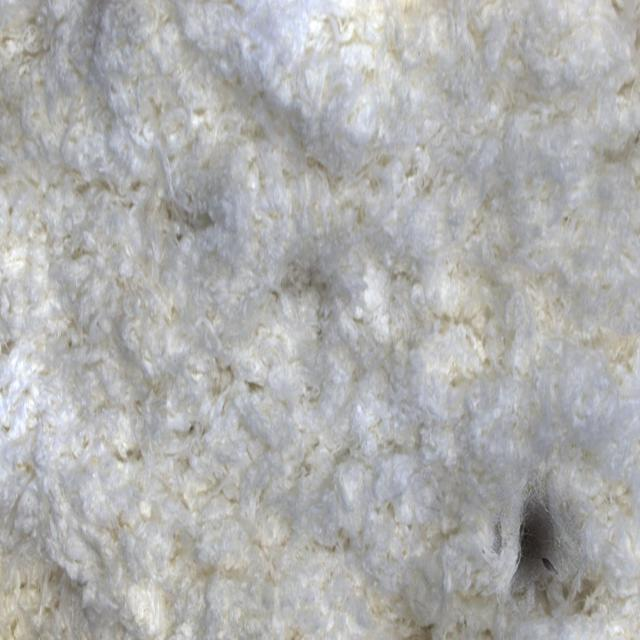dust: (466, 442, 621, 635)
